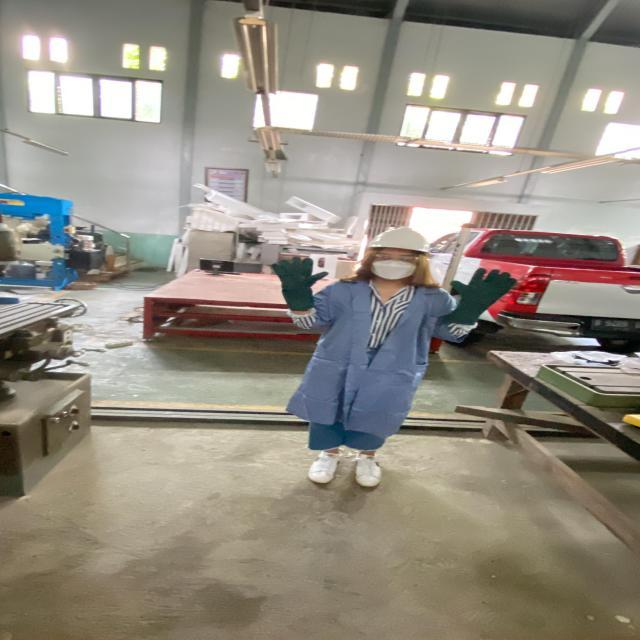glasses: (372, 253, 422, 263)
